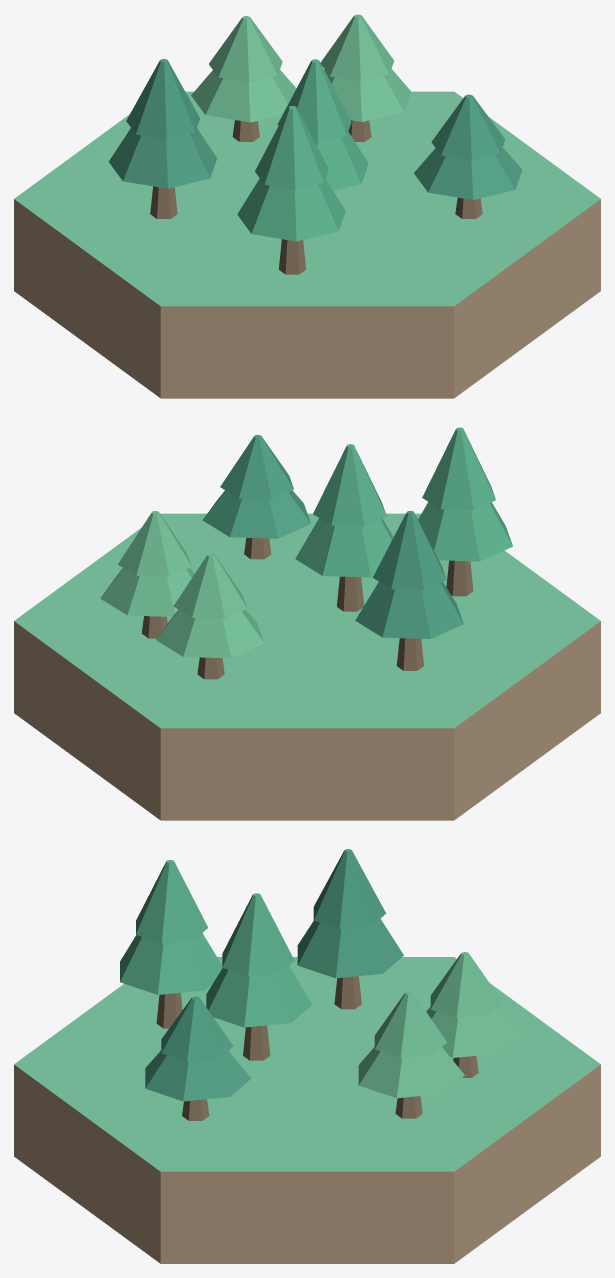
Rendered from grass-forest-3.glb.
3 views of the same model, one above another, from view 1: azimuth 30°, elevation 25°; view 2: azimuth 150°, elevation 25°; view 3: azimuth 270°, elevation 25° (orthographic).
Visible parts, largest first — view 1: forest_hex_base, lower_crown_4, lower_crown_0, lower_crown_3, lower_crown_5, upper_crown_4, upper_crown_0, upper_crown_2, upper_crown_1, upper_crown_5, upper_crown_3, lower_crown_2 (+4 smaller); view 2: forest_hex_base, lower_crown_0, lower_crown_1, lower_crown_4, lower_crown_5, lower_crown_3, upper_crown_4, upper_crown_1, upper_crown_0, lower_crown_2, upper_crown_2, upper_crown_5 (+6 smaller); view 3: forest_hex_base, lower_crown_1, lower_crown_4, lower_crown_0, lower_crown_2, lower_crown_3, upper_crown_4, upper_crown_1, upper_crown_0, lower_crown_5, upper_crown_2, upper_crown_5 (+5 smaller).
Part boxes in pixels (bbox=[...]): forest_hex_base: bbox=[14, 91, 600, 398]; lower_crown_4: bbox=[237, 178, 345, 241]; lower_crown_0: bbox=[108, 128, 217, 188]; lower_crown_3: bbox=[414, 148, 522, 199]; lower_crown_5: bbox=[191, 70, 296, 122]; upper_crown_4: bbox=[255, 106, 328, 189]; upper_crown_0: bbox=[126, 59, 200, 139]; upper_crown_2: bbox=[320, 14, 393, 81]; upper_crown_1: bbox=[277, 59, 351, 142]; upper_crown_5: bbox=[209, 16, 282, 82]; upper_crown_3: bbox=[431, 94, 505, 160]; lower_crown_2: bbox=[324, 69, 411, 121]; forest_hex_base: bbox=[14, 513, 600, 820]; lower_crown_0: bbox=[355, 582, 463, 638]; lower_crown_1: bbox=[295, 518, 393, 577]; lower_crown_4: bbox=[418, 502, 512, 561]; lower_crown_5: bbox=[156, 609, 264, 658]; lower_crown_3: bbox=[202, 490, 310, 538]; upper_crown_4: bbox=[422, 427, 495, 510]; upper_crown_1: bbox=[313, 444, 386, 526]; upper_crown_0: bbox=[373, 510, 446, 590]; lower_crown_2: bbox=[100, 568, 194, 616]; upper_crown_2: bbox=[118, 511, 191, 576]; upper_crown_5: bbox=[173, 553, 247, 618]; forest_hex_base: bbox=[14, 957, 600, 1263]; lower_crown_1: bbox=[206, 966, 312, 1027]; lower_crown_4: bbox=[120, 933, 222, 994]; lower_crown_0: bbox=[297, 919, 403, 978]; lower_crown_2: bbox=[358, 1047, 464, 1098]; lower_crown_3: bbox=[145, 1050, 251, 1101]; upper_crown_4: bbox=[136, 860, 208, 943]; upper_crown_1: bbox=[222, 893, 294, 976]; upper_crown_0: bbox=[313, 849, 385, 929]; lower_crown_5: bbox=[426, 1007, 520, 1057]; upper_crown_2: bbox=[374, 991, 446, 1057]; upper_crown_5: bbox=[430, 952, 502, 1017].
Bounding box in the file's own units: 1 × 0.5518 × 1.15.
